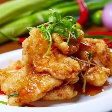guobaorou: (1, 18, 112, 103)
